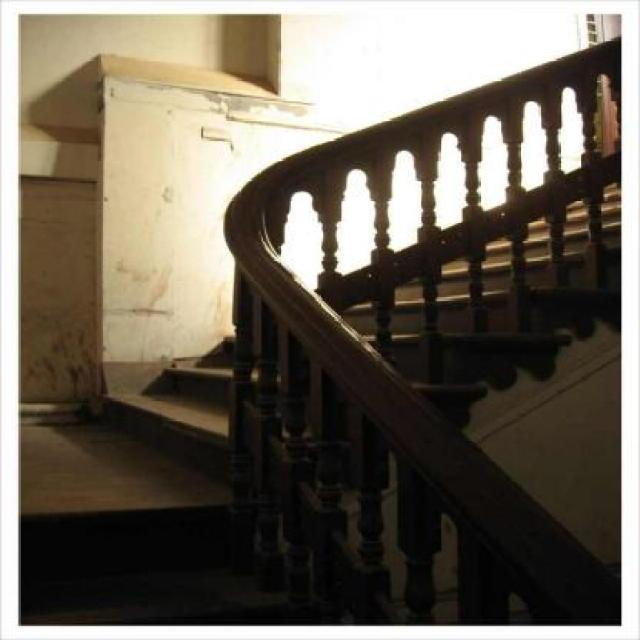stair: (108, 180, 624, 505), (20, 491, 345, 626)
